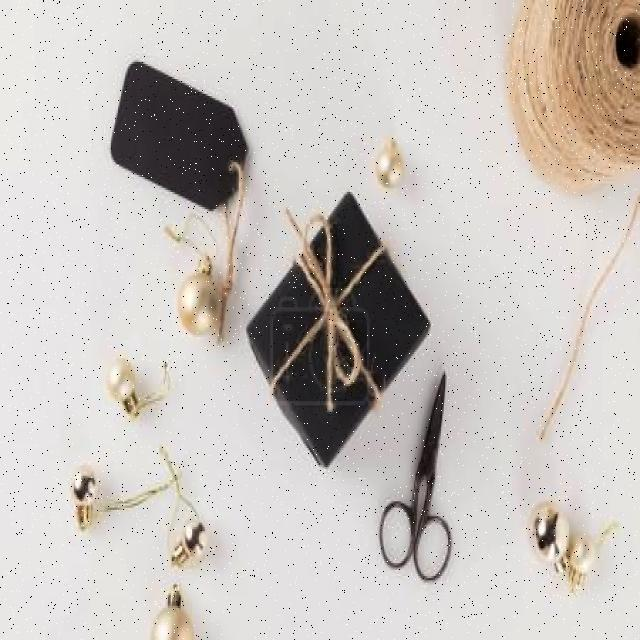scissors: (376, 368, 454, 586)
